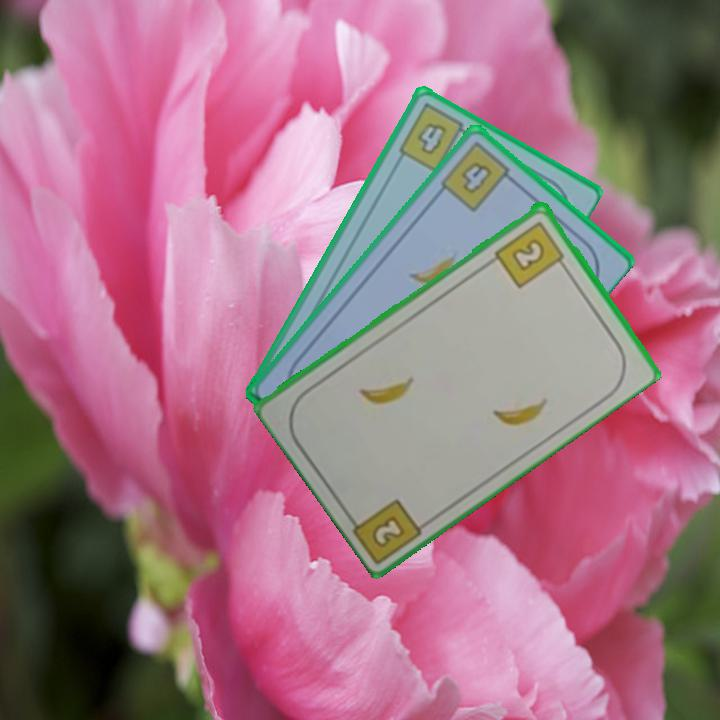2b: (491, 217, 570, 291), (367, 511, 408, 551)
4b: (436, 138, 519, 215), (394, 99, 474, 175)
